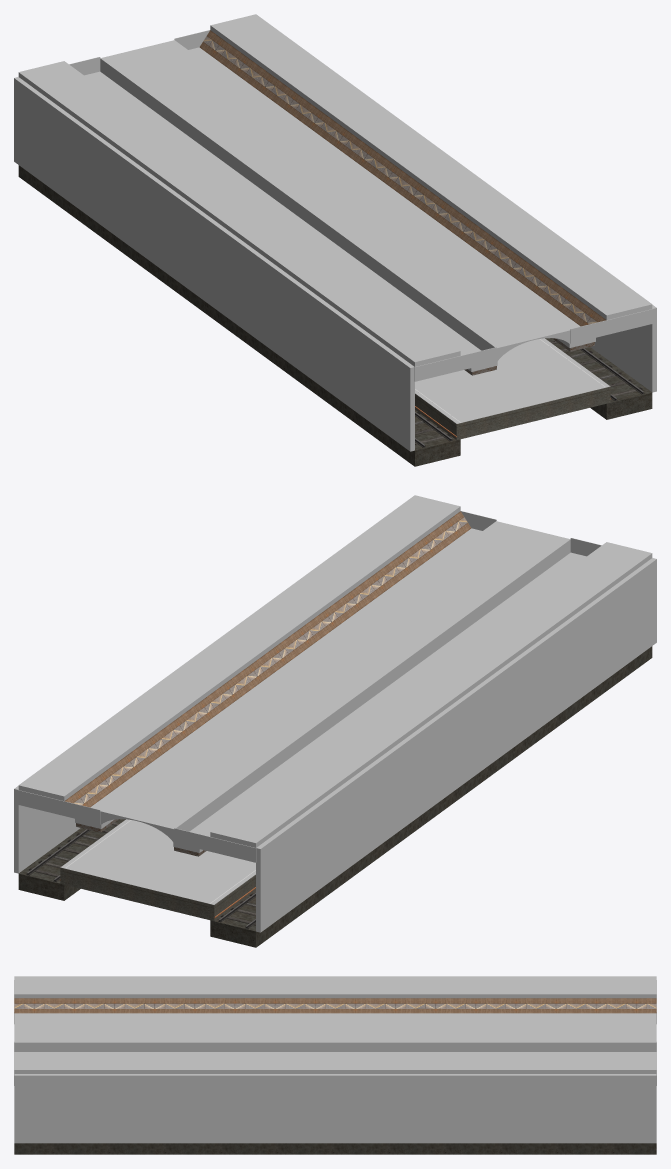
The model's file is Subway04.FBX.
3 views of the same model, one above another, from view 1: azimuth 30°, elevation 25°; view 2: azimuth 150°, elevation 25°; view 3: azimuth 270°, elevation 25° (orthographic). The views are drawn at different scales.
Visible parts, largest first — view 1: Subway04Ceiling01, Subway04Side01a, Subway04CeilingLight, Subway04Floor01, Subway04Ceiling03, Subway04Ceiling02, Subway04Railfloor, Subway04Side01aPart, Subway04Side01aPart001, Subway04Railway; view 2: Subway04Ceiling01, Subway04Side01a, Subway04CeilingLight, Subway04Floor01, Subway04Ceiling03, Subway04Ceiling02, Subway04Railfloor, Subway04Side01aPart, Subway04Side01aPart001, Subway04Railway; view 3: Subway04Side01a, Subway04Ceiling01, Subway04CeilingLight, Subway04Ceiling02, Subway04Railfloor.
Part boxes in pixels (x1,y1,x2,y2): Subway04Ceiling01: (18, 14, 652, 366); Subway04Side01a: (14, 77, 656, 451); Subway04CeilingLight: (100, 40, 570, 361); Subway04Floor01: (415, 338, 610, 439); Subway04Ceiling03: (84, 47, 595, 371); Subway04Ceiling02: (199, 30, 606, 326); Subway04Railfloor: (18, 165, 652, 466); Subway04Side01aPart: (69, 30, 652, 381); Subway04Side01aPart001: (75, 32, 595, 367); Subway04Railway: (415, 341, 644, 447); Subway04Ceiling01: (18, 495, 652, 847); Subway04Side01a: (14, 558, 656, 932); Subway04CeilingLight: (100, 521, 570, 842); Subway04Floor01: (60, 819, 255, 920); Subway04Ceiling03: (75, 528, 586, 852); Subway04Ceiling02: (64, 511, 471, 807); Subway04Railfloor: (18, 646, 652, 947); Subway04Side01aPart: (18, 511, 601, 862); Subway04Side01aPart001: (75, 513, 595, 848); Subway04Railway: (26, 823, 255, 928); Subway04Side01a: (14, 1074, 656, 1143); Subway04Ceiling01: (14, 976, 656, 1073); Subway04CeilingLight: (14, 1013, 656, 1051); Subway04Ceiling02: (14, 998, 656, 1013); Subway04Railfloor: (14, 1143, 656, 1154).
Bounding box in the file's own units: 26950 × 10915 × 75107.
